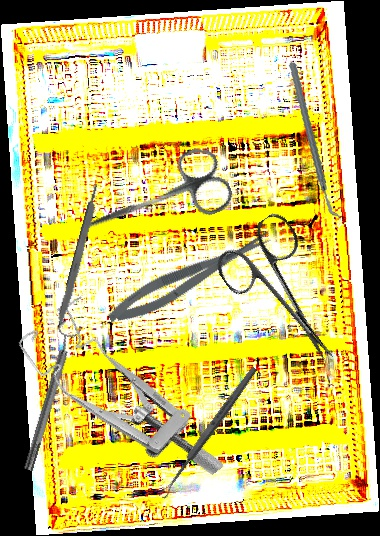Chopper: (265, 60, 365, 222)
Fixation Ring: (15, 319, 84, 474)
Iris Scissors: (208, 209, 366, 383), (67, 141, 238, 263)
Micro Scissor: (102, 225, 278, 331)
Scalpel Handle: (54, 182, 104, 330)
Speculum: (13, 281, 228, 524)
Surgical Spoon: (157, 365, 259, 500)
